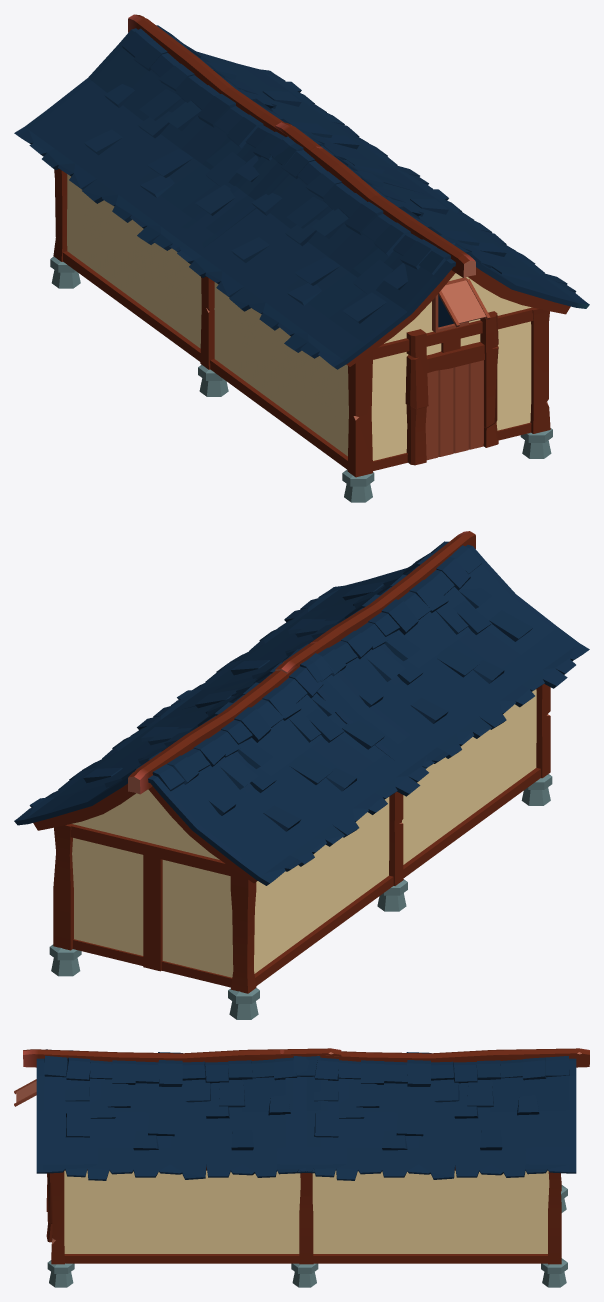
Rendered from SM_Granary_LODS_Group.fbx.
3 views of the same model, one above another, from view 1: azimuth 30°, elevation 25°; view 2: azimuth 150°, elevation 25°; view 3: azimuth 270°, elevation 25° (orthographic). The views are drawn at different scales.
Visible parts, largest first — view 1: SM_Granary_LOD0; view 2: SM_Granary_LOD0; view 3: SM_Granary_LOD0.
Part boxes in pixels (box(x1,y1,x2,y2)): SM_Granary_LOD0: box(14, 14, 589, 502); SM_Granary_LOD0: box(14, 531, 589, 1019); SM_Granary_LOD0: box(14, 1048, 589, 1287).
Size of the model in its own units: 259 by 560 by 211.
